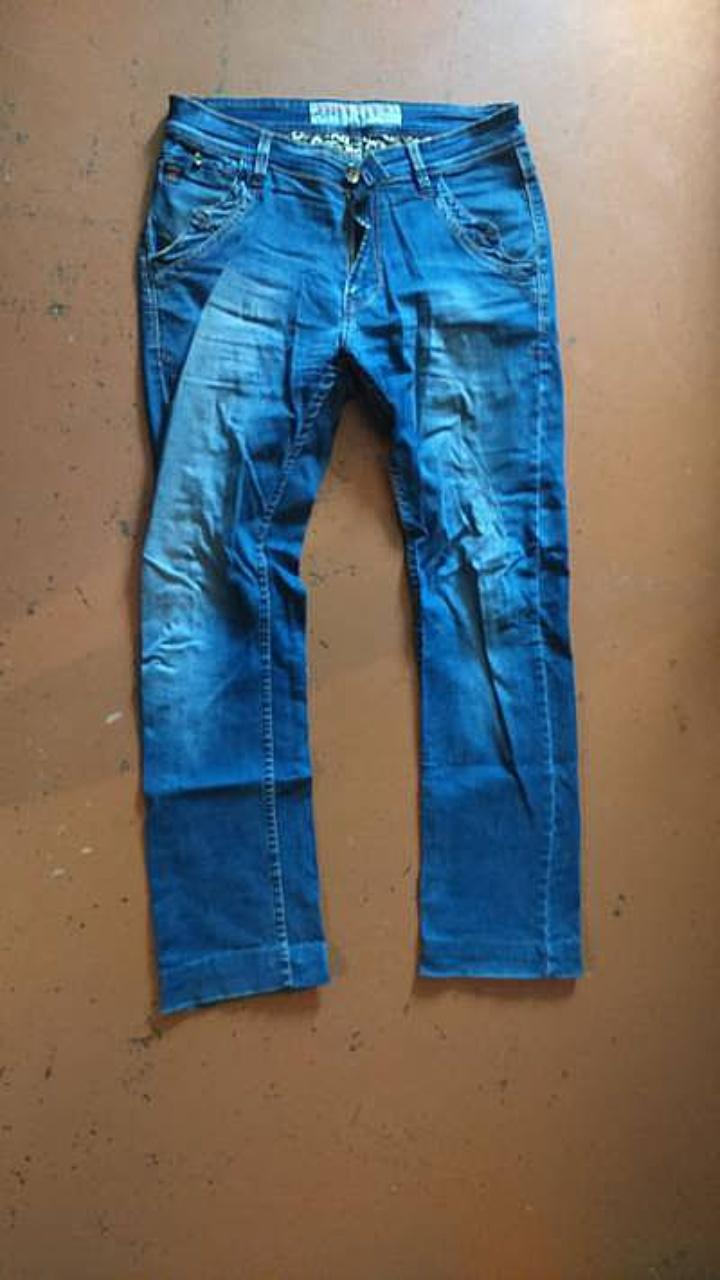Jeans: (137, 94, 583, 1012)
